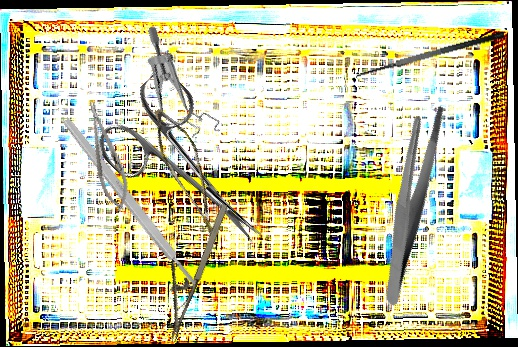Dressing Forceps: (334, 97, 487, 308)
Iris Scissors: (86, 64, 297, 276)
Micro Scissor: (132, 103, 247, 242)
Needle Holder: (142, 194, 233, 343), (78, 97, 136, 215)
Scalpel Handle: (61, 116, 199, 288)
Spatula Surgical: (353, 29, 509, 89)
Speculum: (111, 24, 248, 149)
